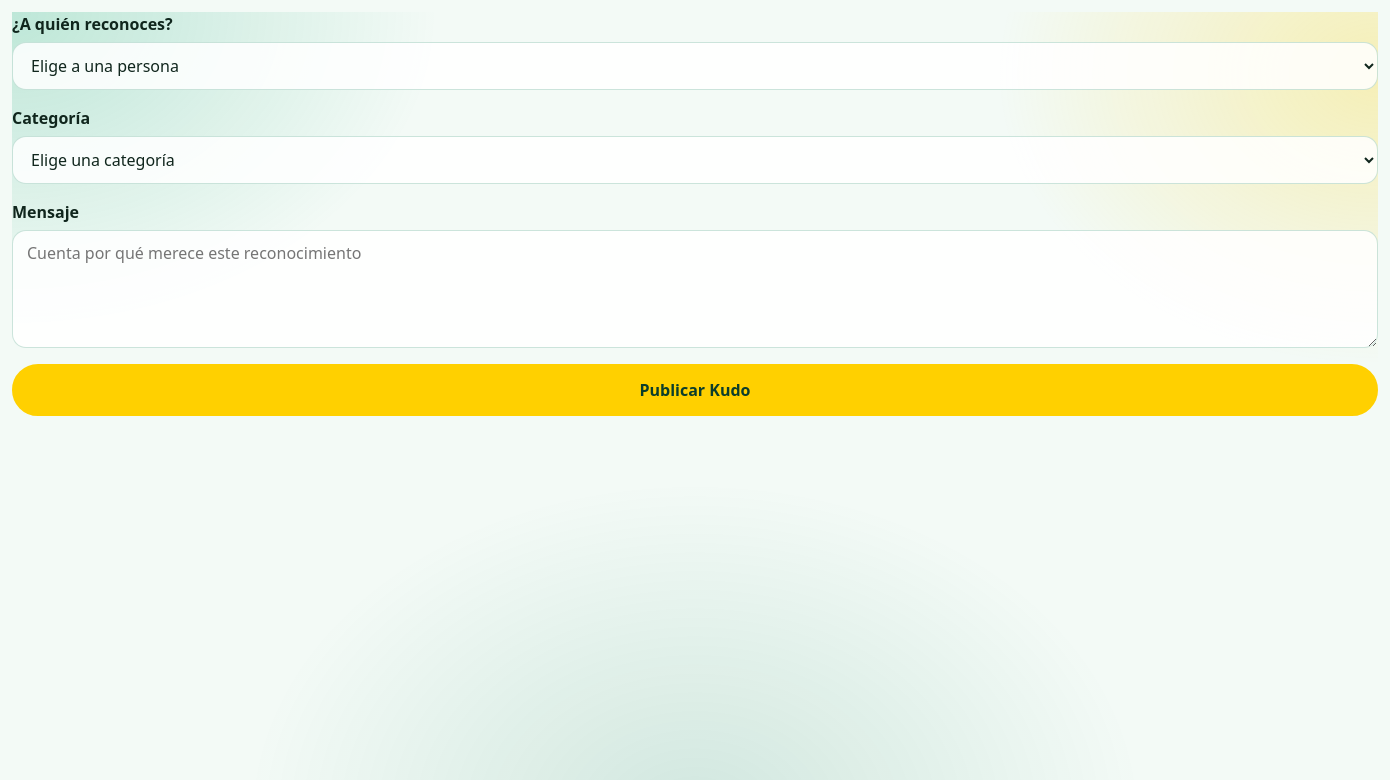
Test: FormularioDePublicacion › explica el rechazo DESTINATARIO_NO_DISPONIBLE de la API
Select "Beto Estudiante" in the dropdown labelled "¿A quién reconoces?": point(695, 66) x1=12 y1=42 x2=1378 y2=90
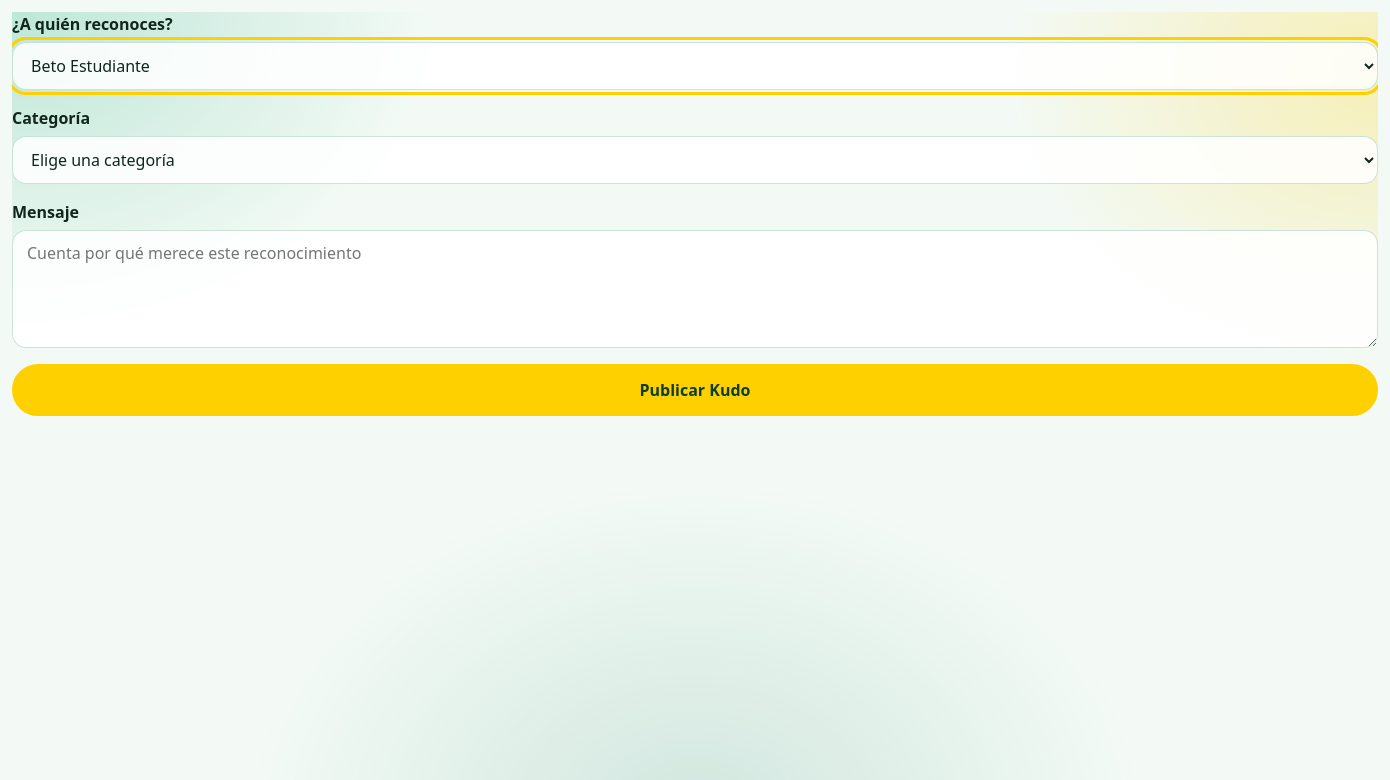
Select "Innovación" in the dropdown labelled "Categoría": point(695, 160) x1=12 y1=136 x2=1378 y2=184
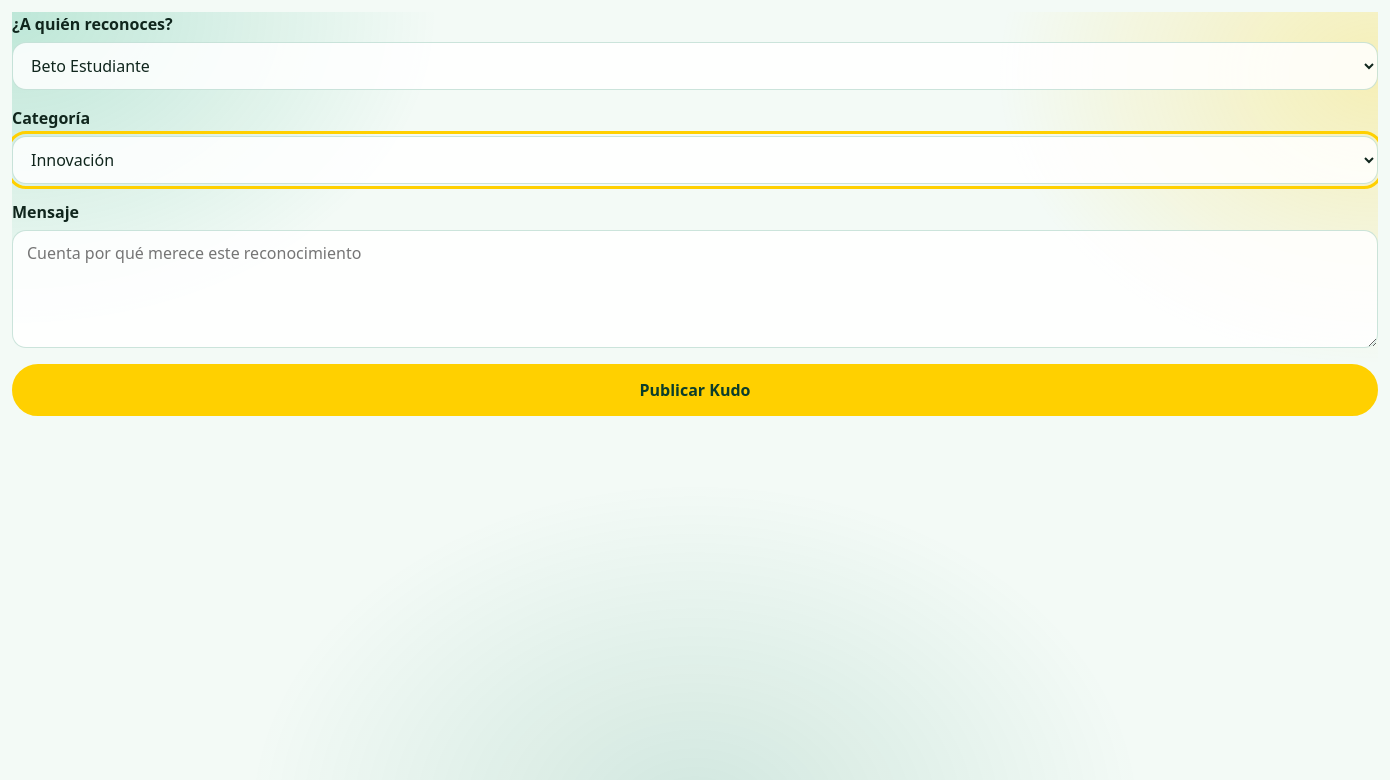
In the text box labelled "Mensaje": point(695, 289) x1=12 y1=230 x2=1378 y2=348, type "Gracias por todo"
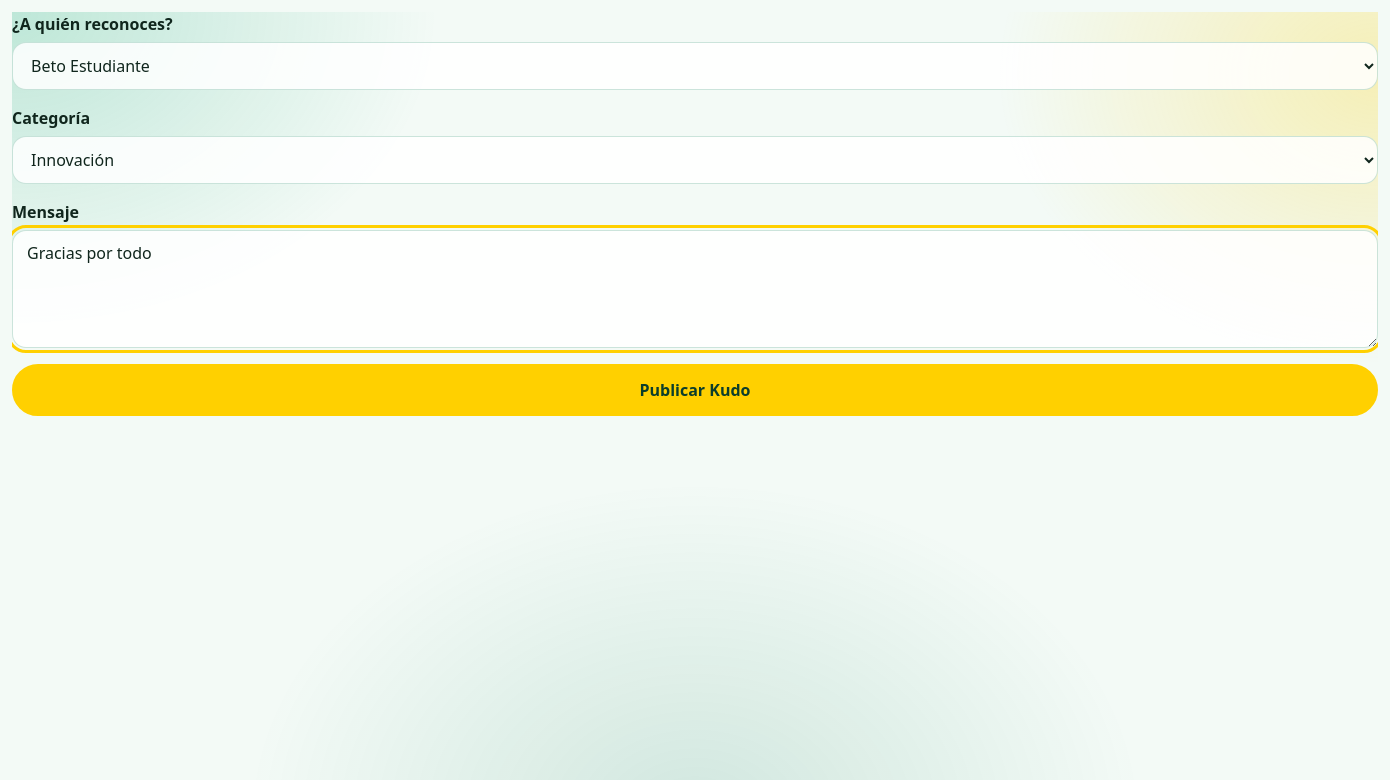
Click the button "Publicar Kudo": point(695, 390) x1=12 y1=364 x2=1378 y2=416
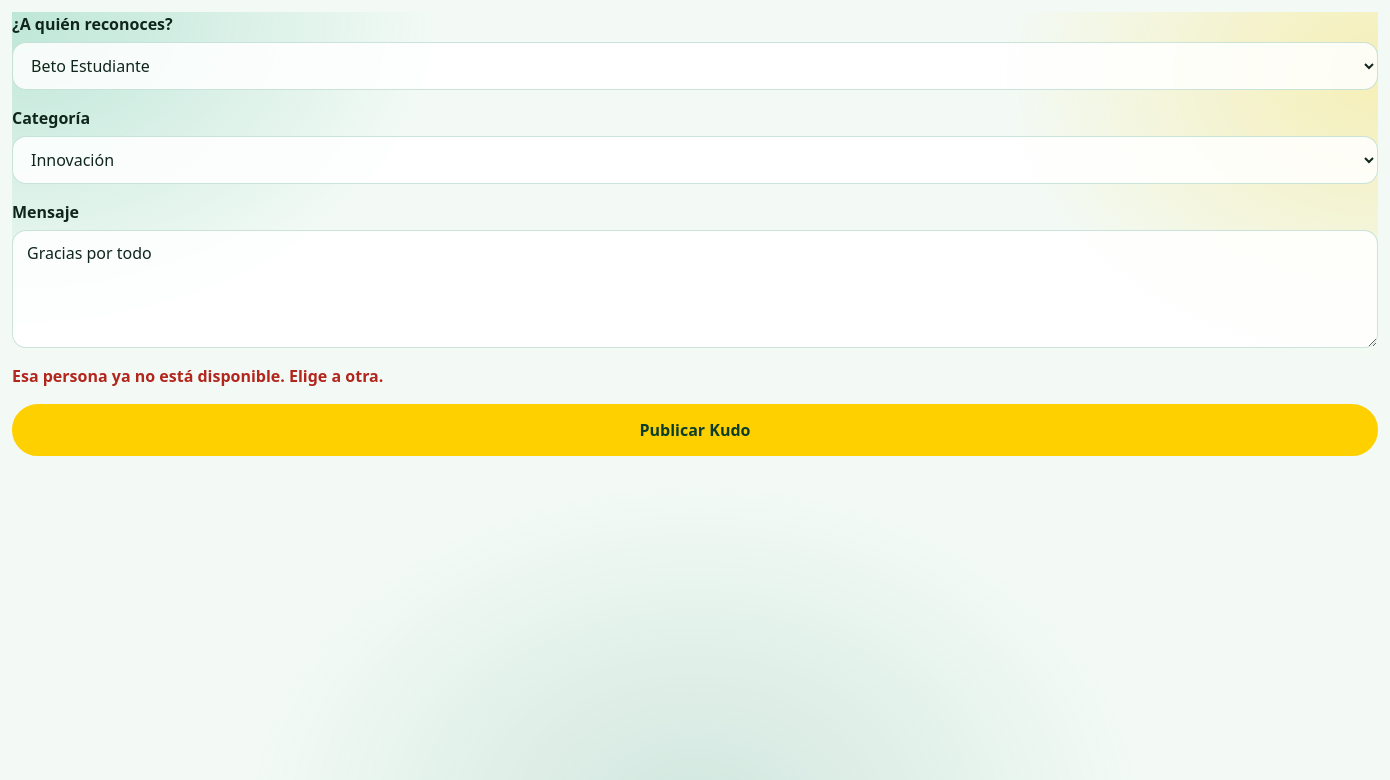
Check: the message shows "Esa persona ya no está disponible", box x1=12 y1=365 x2=383 y2=387
